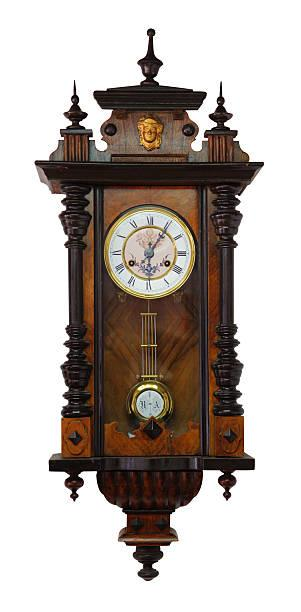clock: (104, 208, 196, 301)
